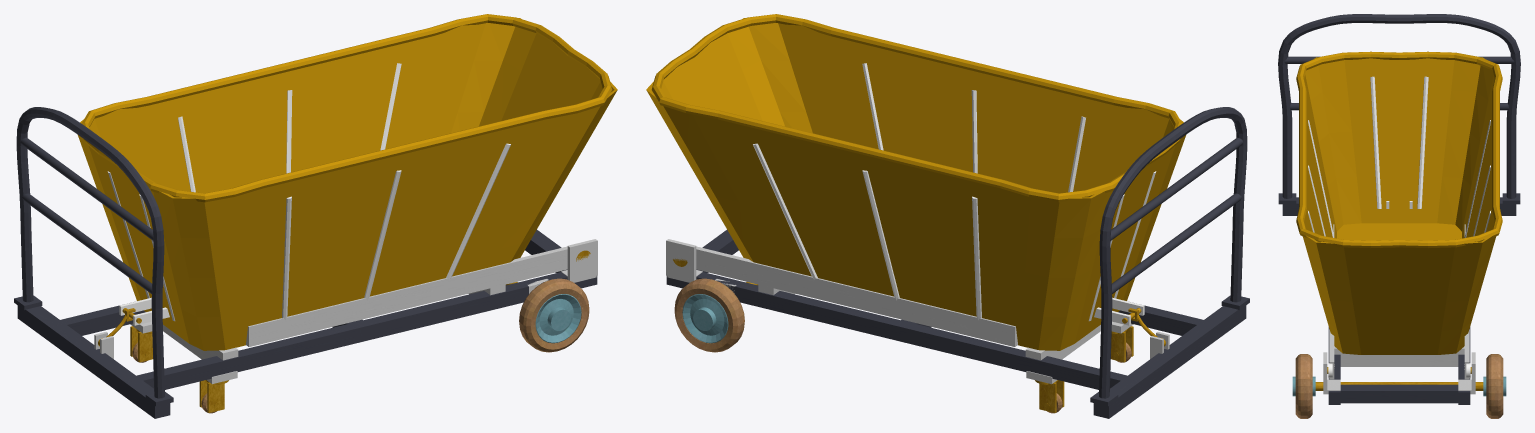
The model's file is Urban_Environment_Tilt_Truck2__0000.glb.
3 views of the same model, side by side, from view 1: azimuth 30°, elevation 25°; view 2: azimuth 150°, elevation 25°; view 3: azimuth 270°, elevation 25° (orthographic). The views are drawn at different scales.
Visible parts, largest first — view 1: hopper::hopper_form__rounded_wedge__tub_shell, hopper::hopper_form__rounded_wedge__rim_lip, chassis::chassis__box_rail_deck__side_rail_1, hopper::trunnion_channel_1, push_handle::push_handle__rear_loop__hoop_tube, chassis::rear_outrigger_beam, main_wheel_1::main_wheel_1_tire, chassis::chassis__box_rail_deck__cross_member_2, push_handle::push_handle__rear_loop__rung_1, push_handle::push_handle__rear_loop__rung_0, main_wheel_1::main_wheel_1_rim, chassis::chassis__box_rail_deck__side_rail_0 (+6 smaller); view 2: hopper::hopper_form__rounded_wedge__tub_shell, hopper::hopper_form__rounded_wedge__rim_lip, chassis::chassis__box_rail_deck__side_rail_0, hopper::trunnion_channel_0, push_handle::push_handle__rear_loop__hoop_tube, chassis::rear_outrigger_beam, main_wheel_0::main_wheel_0_tire, push_handle::push_handle__rear_loop__rung_1, push_handle::push_handle__rear_loop__rung_0, main_wheel_0::main_wheel_0_rim, chassis::chassis__box_rail_deck__side_rail_1, chassis::chassis__box_rail_deck__cross_member_2 (+6 smaller); view 3: hopper::hopper_form__rounded_wedge__tub_shell, hopper::hopper_form__rounded_wedge__rim_lip, push_handle::push_handle__rear_loop__hoop_tube, chassis::chassis__box_rail_deck__cross_member_0, chassis::chassis__box_rail_deck__deck_bearer_1, main_wheel_0::main_wheel_0_tire, main_wheel_1::main_wheel_1_tire, hopper::hopper_form__rounded_wedge__rear_rib_0, hopper::hopper_form__rounded_wedge__rear_rib_1, chassis::main_axle, chassis::chassis__box_rail_deck__side_rail_0, chassis::chassis__box_rail_deck__side_rail_1 (+6 smaller).
Part boxes in pixels (x1,y1,x2,y2): hopper::hopper_form__rounded_wedge__tub_shell: (78,18,617,350); hopper::hopper_form__rounded_wedge__rim_lip: (81,14,612,202); chassis::chassis__box_rail_deck__side_rail_1: (121,272,597,398); hopper::trunnion_channel_1: (246,246,567,346); push_handle::push_handle__rear_loop__hoop_tube: (16,107,164,398); chassis::rear_outrigger_beam: (17,305,170,418); main_wheel_1::main_wheel_1_tire: (519,278,589,352); chassis::chassis__box_rail_deck__cross_member_2: (45,320,142,393); push_handle::push_handle__rear_loop__rung_1: (20,137,153,240); push_handle::push_handle__rear_loop__rung_0: (19,193,154,294); main_wheel_1::main_wheel_1_rim: (535,294,581,343); chassis::chassis__box_rail_deck__side_rail_0: (44,305,145,342); hopper::hopper_form__rounded_wedge__tub_shell: (646,18,1185,350); hopper::hopper_form__rounded_wedge__rim_lip: (651,14,1182,202); chassis::chassis__box_rail_deck__side_rail_0: (666,272,1142,398); hopper::trunnion_channel_0: (696,246,1017,346); push_handle::push_handle__rear_loop__hoop_tube: (1099,107,1247,398); chassis::rear_outrigger_beam: (1093,305,1246,418); main_wheel_0::main_wheel_0_tire: (674,278,744,352); push_handle::push_handle__rear_loop__rung_1: (1110,137,1243,240); push_handle::push_handle__rear_loop__rung_0: (1109,193,1241,294); main_wheel_0::main_wheel_0_rim: (682,294,728,343); chassis::chassis__box_rail_deck__side_rail_1: (1118,305,1219,342); chassis::chassis__box_rail_deck__cross_member_2: (1121,321,1218,380); hopper::hopper_form__rounded_wedge__tub_shell: (1302,57,1496,354); hopper::hopper_form__rounded_wedge__rim_lip: (1296,51,1502,247); push_handle::push_handle__rear_loop__hoop_tube: (1278,14,1520,198); chassis::chassis__box_rail_deck__cross_member_0: (1340,384,1458,403); chassis::chassis__box_rail_deck__deck_bearer_1: (1334,346,1464,366); main_wheel_0::main_wheel_0_tire: (1486,354,1503,418); main_wheel_1::main_wheel_1_tire: (1295,354,1312,418); hopper::hopper_form__rounded_wedge__rear_rib_0: (1370,76,1381,208); hopper::hopper_form__rounded_wedge__rear_rib_1: (1417,76,1428,208); chassis::main_axle: (1315,382,1483,390); chassis::chassis__box_rail_deck__side_rail_0: (1458,327,1470,404); chassis::chassis__box_rail_deck__side_rail_1: (1328,327,1340,404).
Size of the model in its own units: 1.94 by 1.03 by 0.9713.
Materials: 7 (5 with a texture image).
